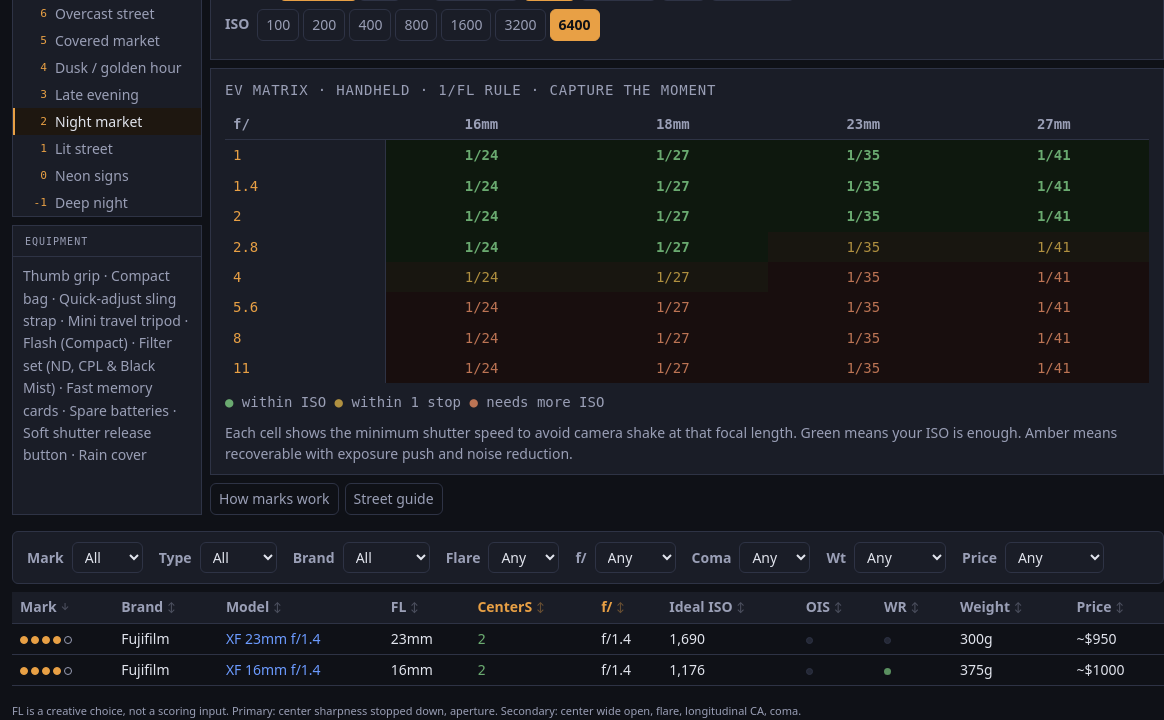
Test: GenreGuide › filters by type (prime/zoom)
The image size is (1164, 720).
(page scrolled)
Select "Zoom" in the dropdown named "Type" at x=238, y=558, box [200, 542, 277, 573]
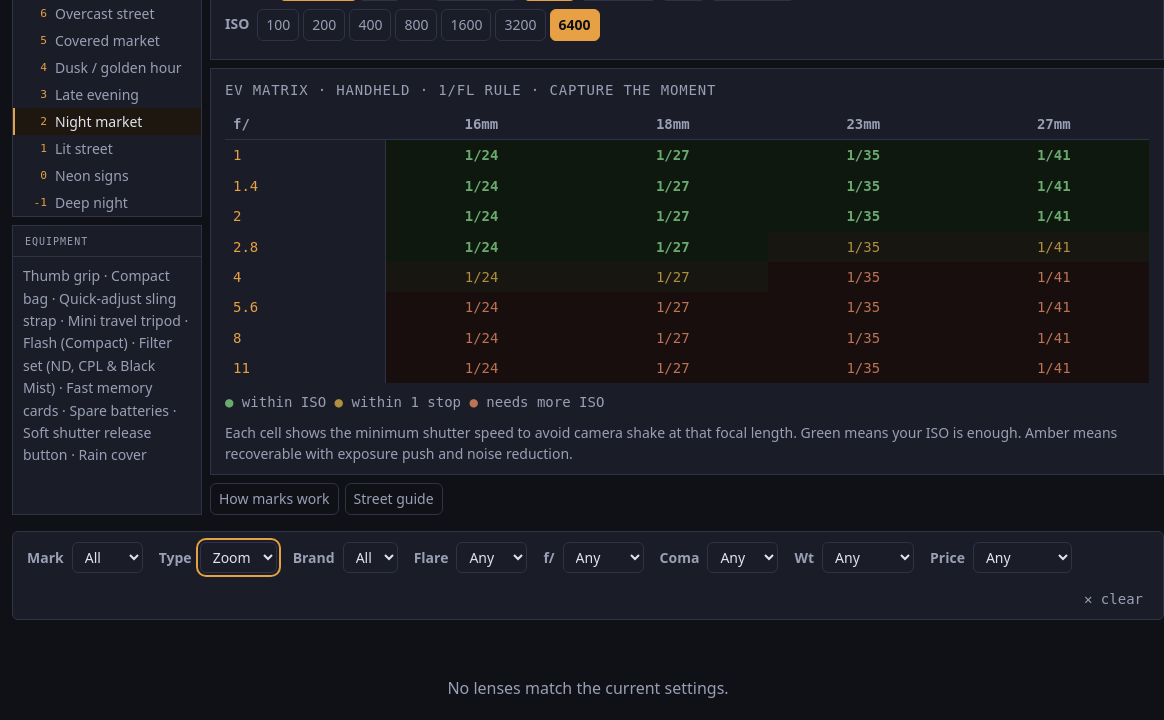
expect the link "XF 23mm f/1.4" is gone: met
expect the link "XF 16mm f/1.4" is gone: met
